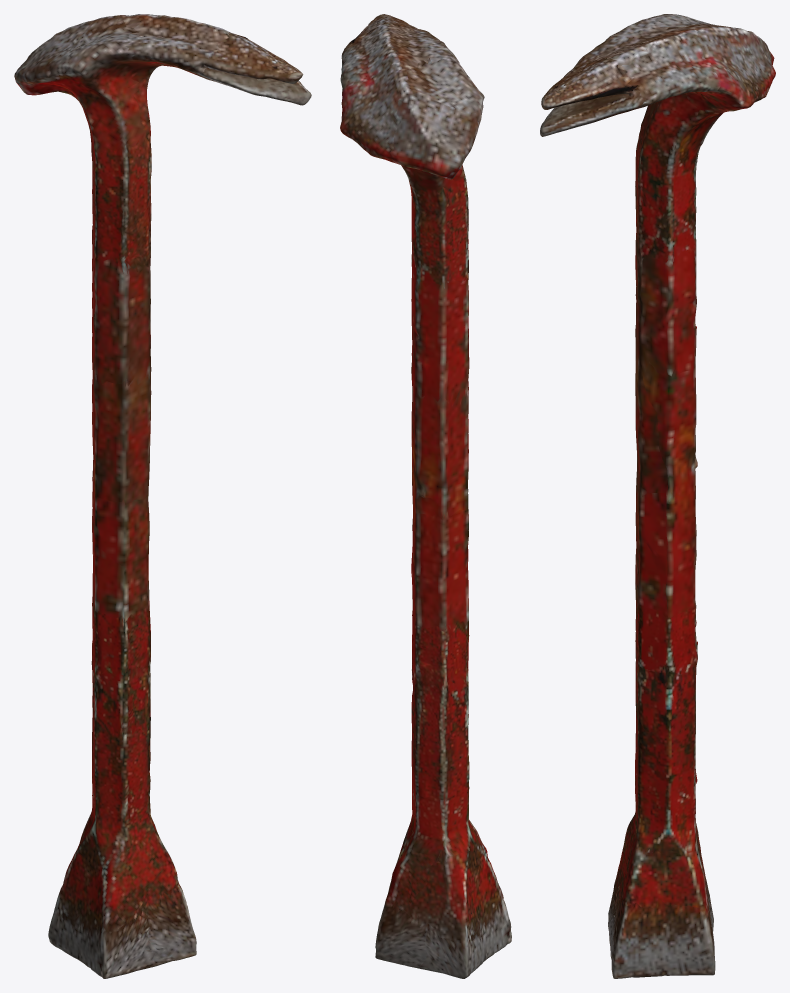
The model's file is melee_crowbar.1f4b41dd81.glb.
The picture shows the model from 3 angles, left to right: view 1: azimuth 30°, elevation 25°; view 2: azimuth 150°, elevation 25°; view 3: azimuth 270°, elevation 25°; orthographic projection. The views are drawn at different scales.
Visible parts, largest first — view 1: melee_crowbar; view 2: melee_crowbar; view 3: melee_crowbar.
Boxes of the visible parts, x1=… form: melee_crowbar: x1=14, y1=14, x2=311, y2=978; melee_crowbar: x1=340, y1=14, x2=511, y2=978; melee_crowbar: x1=540, y1=14, x2=775, y2=978.
Size of the model in its own units: 0.1319 by 0.6 by 0.1362.
Materials: 1 (1 with a texture image).
